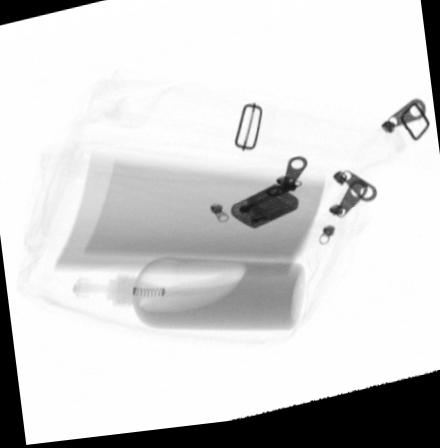Lighter: (229, 190, 299, 236)
